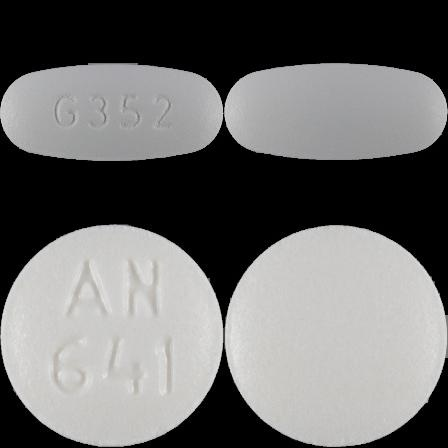42291-290: (0, 0, 224, 224)
